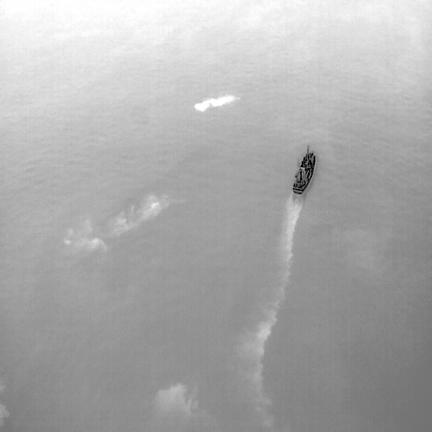flukeprints: (108, 195, 168, 235), (63, 220, 106, 250), (194, 94, 239, 111)
